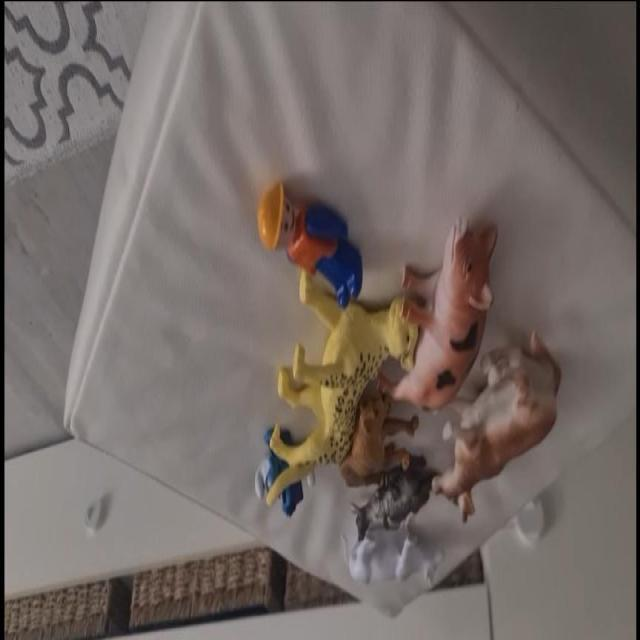hard-toy: (265, 271, 419, 503), (434, 332, 560, 497), (392, 221, 496, 409)
